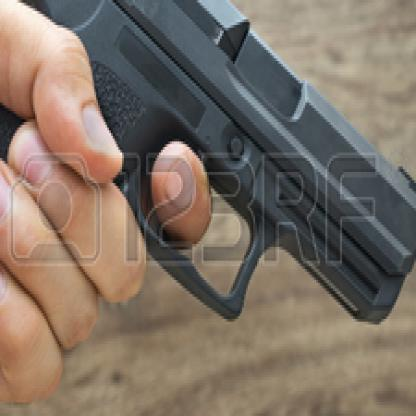gun: (0, 0, 414, 383)
